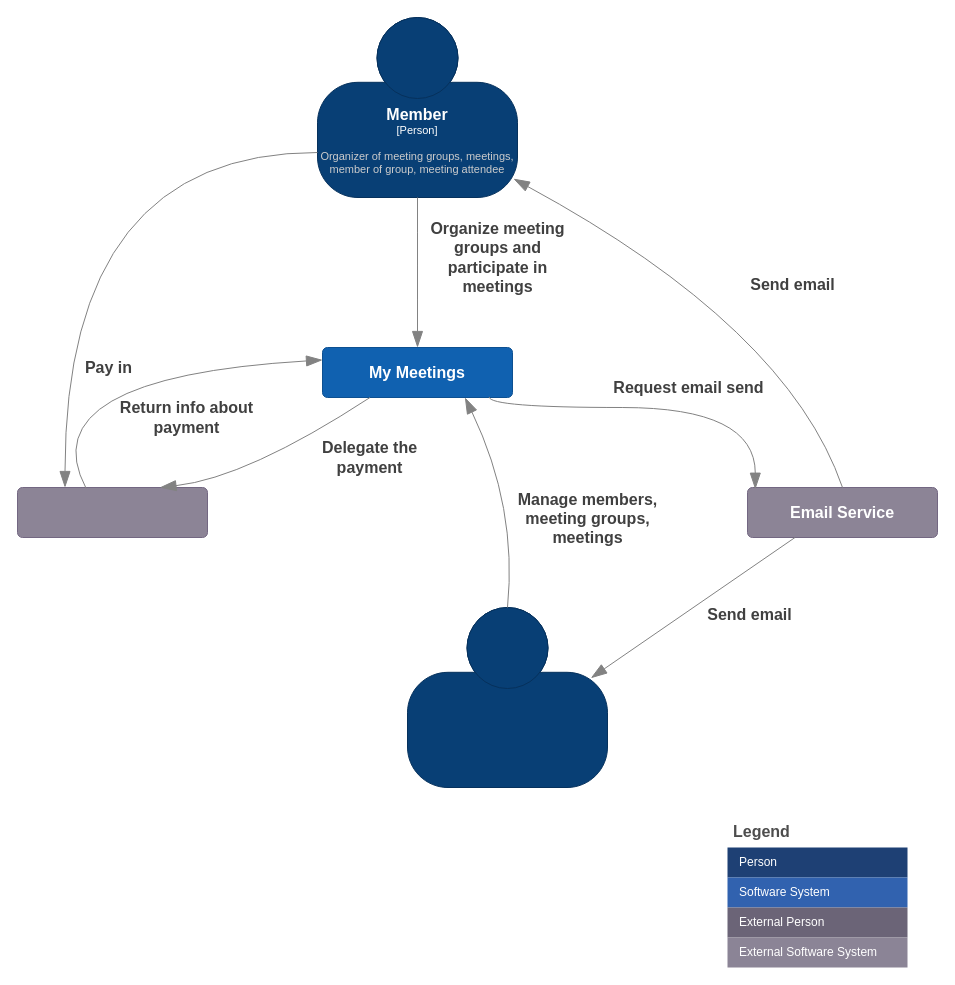
Some shapes in this 955 by 985 pixel diagram are drawn without their labels. Here are the shapes that lost their labels. From the top down, the centre of each, then its label:
At pixel 112 512: "Payment Gateway".
At pixel 507 697: "Adminstrator [Person] Administrator of the system".
